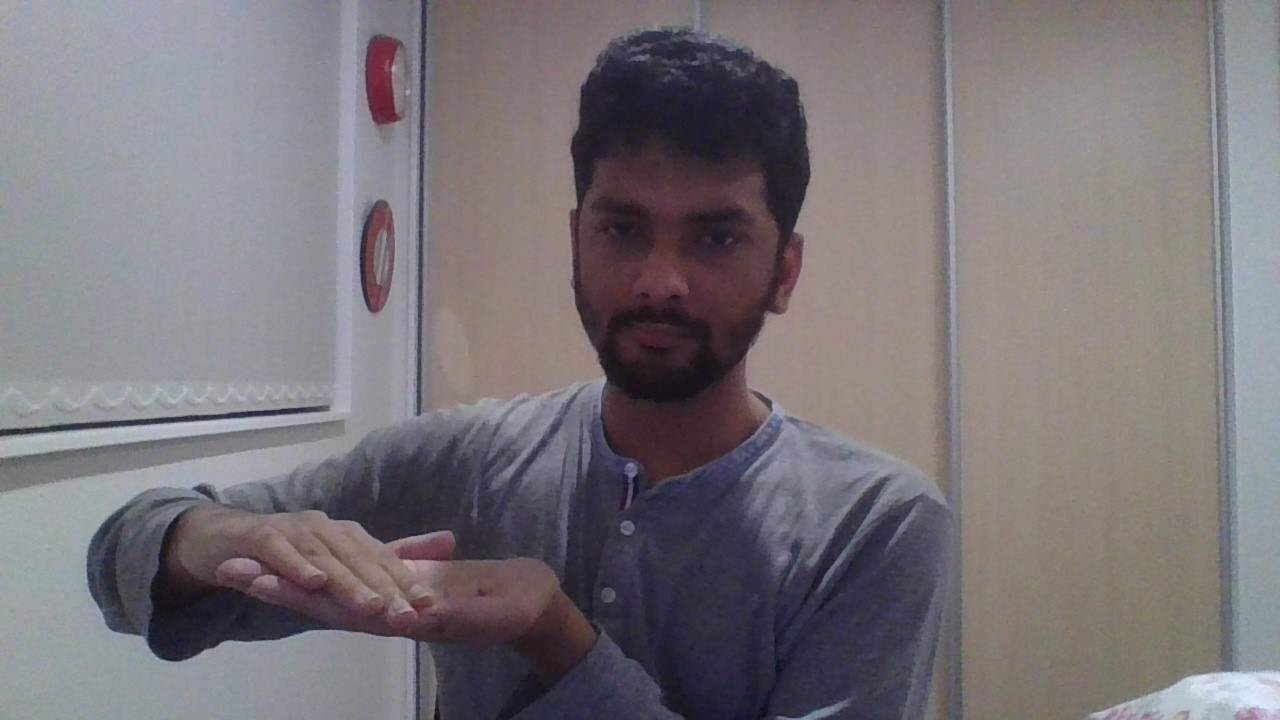clear: (173, 502, 562, 647)
